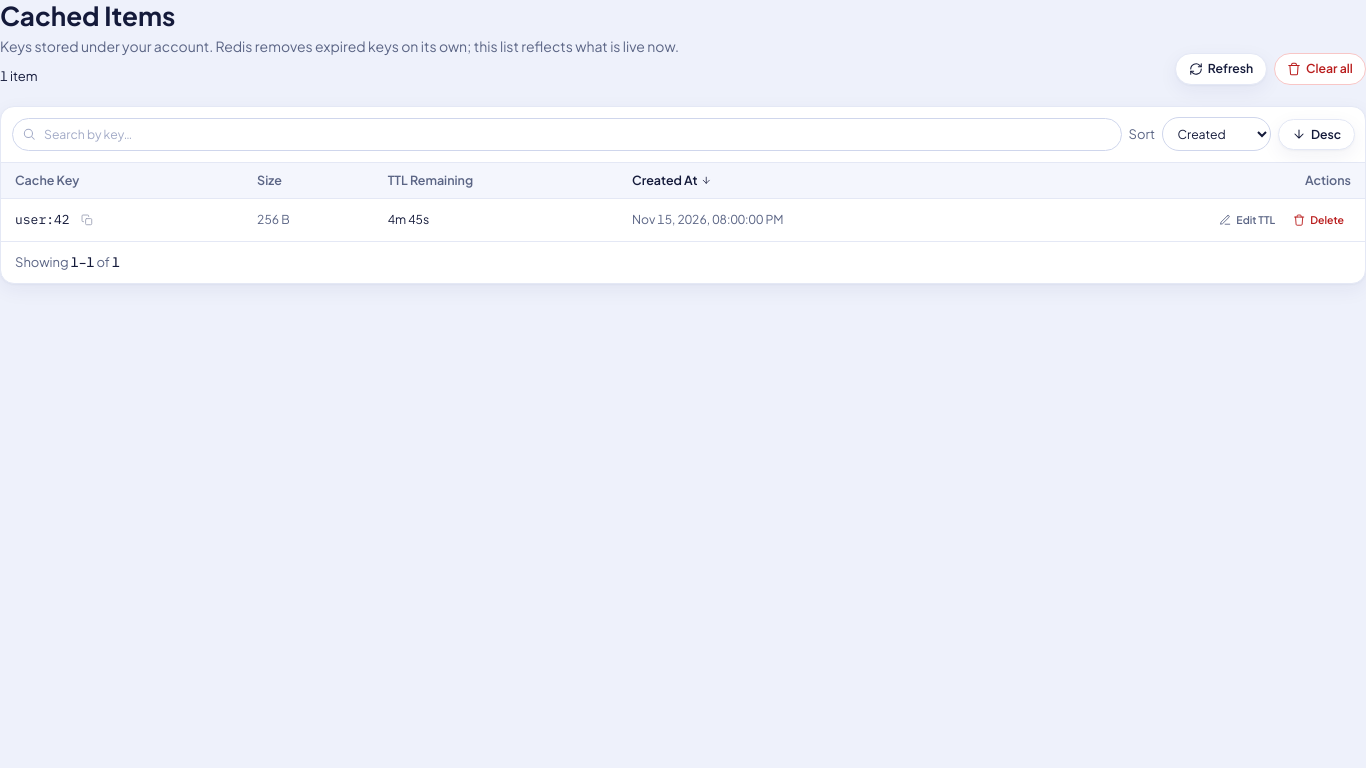
Test case: Cached Items redesign › shows a mutation failure inside the delete dialog
Click the button "Delete" at (1318, 220), box [1286,208,1351,232]
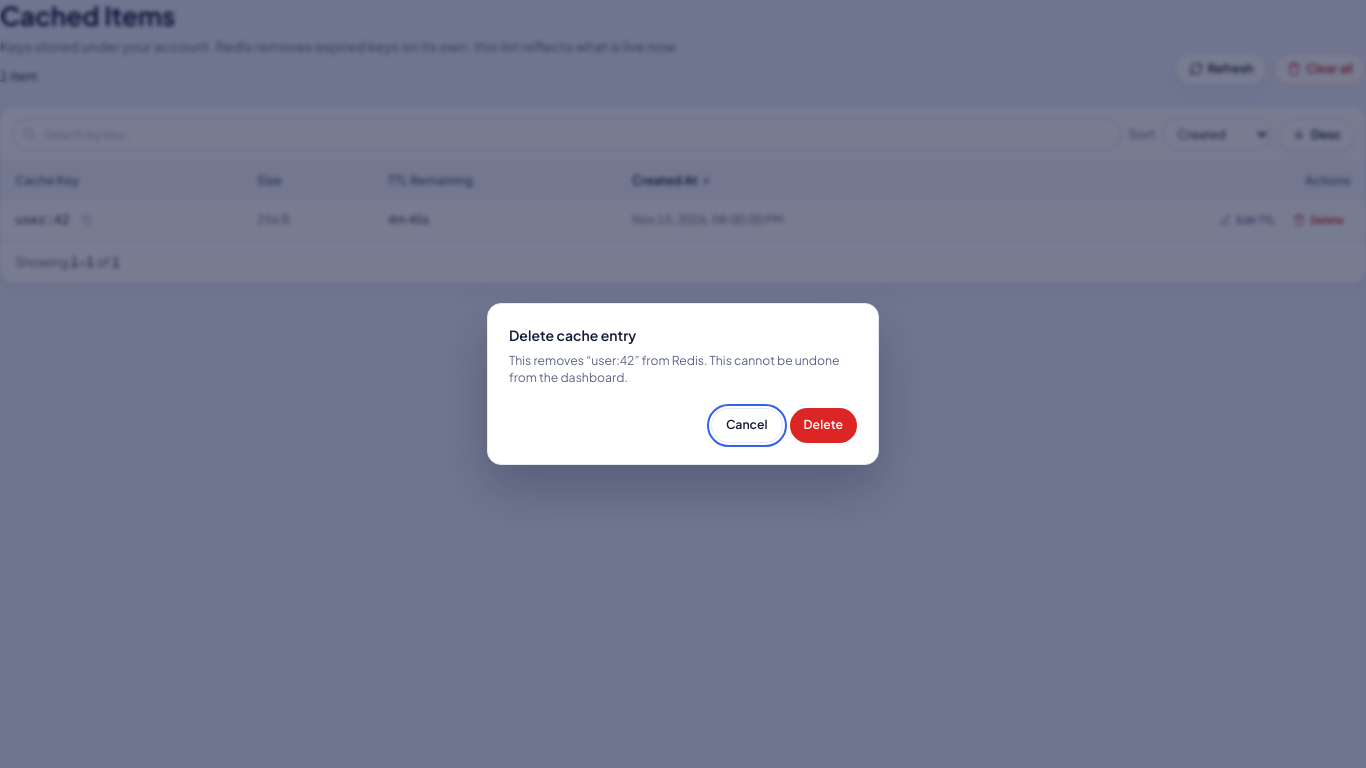
Click the button "Delete" at (823, 425), box [790,408,857,443]
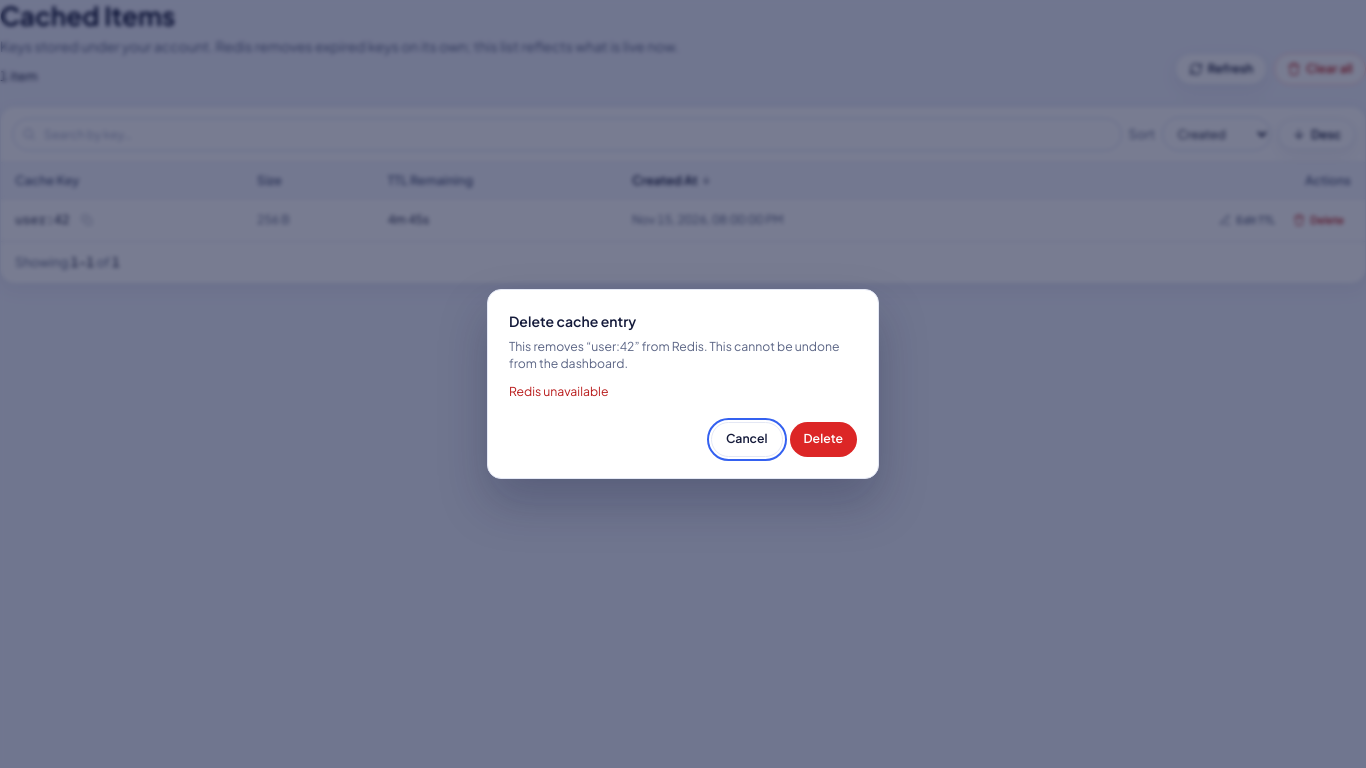
Result: the message reads "Redis unavailable" at [509,383,608,399]
